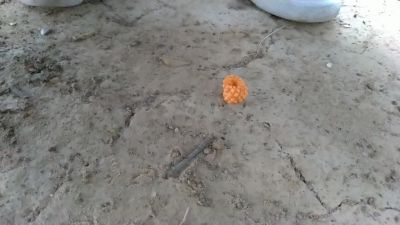eggs: (221, 69, 254, 107)
